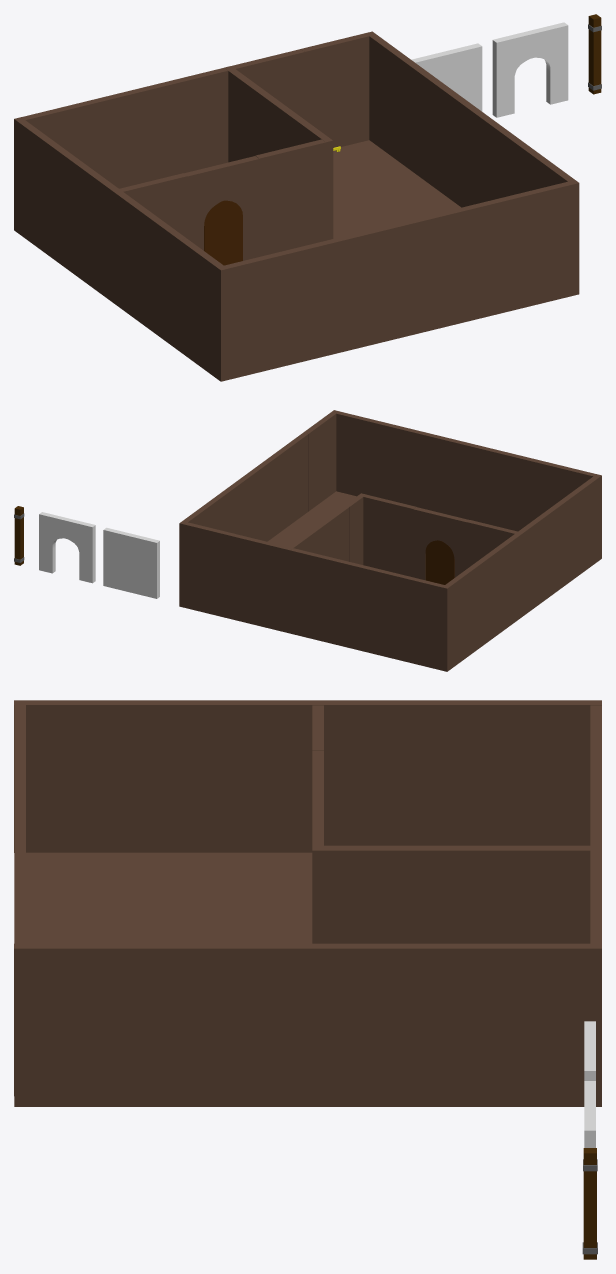
File: GameTiles1.fbx
3 renders of one model, top to bottom at view 1: azimuth 30°, elevation 25°; view 2: azimuth 150°, elevation 25°; view 3: azimuth 270°, elevation 25°, orthographic. The views are drawn at different scales.
Parts seen in each view (by area): view 1: Cube.038, Cube.040, Cube.039, Cube.037, Cube.041, Cube.033, Cube.029, Cube.031, Cube.032, Cube.042, Cube.034, Cube.045 (+28 smaller); view 2: Cube.028, Cube.032, Cube.029, Cube.030, Cube.031, Cube.040, Cube.039, Cube.041, Cube.038, Cube.033, Cube.001, Cube.034 (+21 smaller); view 3: Cube.047, Cube.046, Cube.048, Cube.049, Cube.044, Cube.051, Cube.042, Cube.045, Cube.050, Cube.043, Cube.052, Cube.053 (+16 smaller).
Part boxes in pixels (x1,y1,x2,y2): Cube.038: (289, 232, 364, 356); Cube.040: (360, 215, 435, 339); Cube.039: (432, 197, 507, 321); Cube.037: (216, 250, 292, 373); Cube.041: (504, 180, 578, 304); Cube.033: (255, 139, 325, 256); Cube.029: (86, 84, 161, 188); Cube.031: (158, 68, 228, 178); Cube.032: (301, 31, 376, 147); Cube.042: (179, 238, 228, 374); Cube.034: (184, 156, 262, 260); Cube.045: (96, 178, 144, 313); Cube.028: (393, 573, 450, 665); Cube.032: (179, 521, 235, 613); Cube.029: (340, 560, 396, 652); Cube.030: (233, 534, 287, 626); Cube.031: (286, 548, 342, 639); Cube.040: (438, 436, 494, 524); Cube.039: (384, 423, 440, 512); Cube.041: (331, 410, 387, 498); Cube.038: (491, 449, 547, 531); Cube.033: (363, 494, 415, 576); Cube.001: (103, 527, 159, 598); Cube.034: (411, 507, 469, 580); Cube.047: (131, 943, 249, 1096); Cube.046: (131, 700, 249, 852); Cube.048: (249, 943, 366, 1096); Cube.049: (367, 943, 484, 1096); Cube.044: (367, 700, 484, 845); Cube.051: (14, 943, 131, 1096); Cube.042: (14, 700, 131, 852); Cube.045: (249, 700, 366, 852); Cube.050: (484, 943, 590, 1096); Cube.043: (484, 700, 601, 845); Cube.052: (367, 845, 484, 943); Cube.053: (484, 845, 601, 943).
Bounding box in the file's own units: 8108 × 1487 × 5001.
